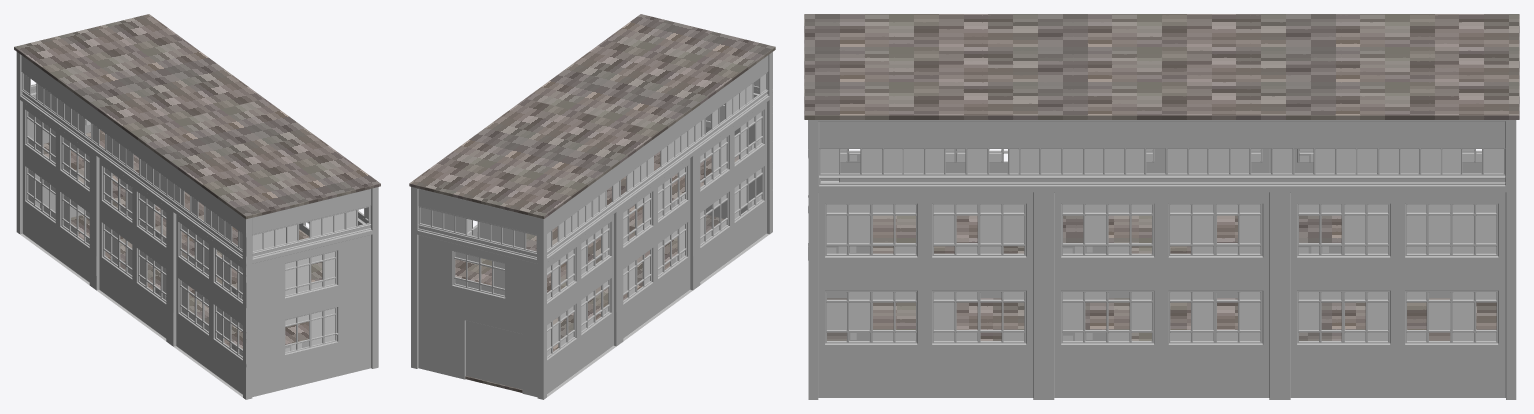
File: old industrial building.fbx
3 renders of one model, left to right at view 1: azimuth 30°, elevation 25°; view 2: azimuth 150°, elevation 25°; view 3: azimuth 270°, elevation 25°, orthographic. The views are drawn at different scales.
Visible parts, largest first — view 1: building, building floor, building top, building windows; view 2: building, building floor, building top, building windows; view 3: building, building floor, building windows, building top.
Boxes of the visible parts, <box> form: building: <box>16,89,378,399</box>; building floor: <box>14,14,380,348</box>; building top: <box>16,52,378,261</box>; building windows: <box>24,74,368,356</box>; building: <box>411,90,772,399</box>; building floor: <box>409,14,775,392</box>; building top: <box>411,52,772,261</box>; building windows: <box>420,74,765,356</box>; building: <box>808,120,1516,399</box>; building floor: <box>804,14,1519,340</box>; building windows: <box>820,149,1503,340</box>; building top: <box>808,120,1516,186</box>.
Size of the model in its own units: 1161 by 1517 by 3451.
